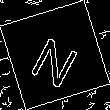N_NE: (25, 23, 85, 87)
